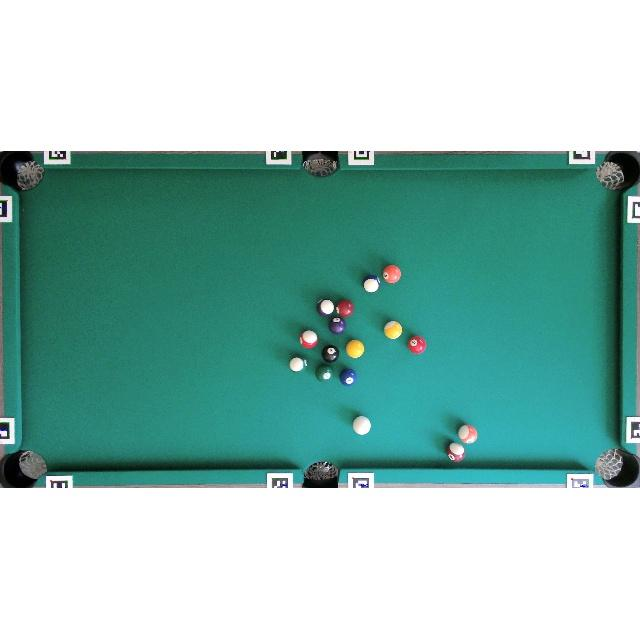cue ball: (352, 416, 371, 435)
other: (382, 264, 402, 284), (458, 424, 478, 444), (446, 442, 465, 462), (289, 355, 308, 374), (408, 335, 427, 354), (328, 316, 346, 335), (346, 340, 365, 358), (339, 368, 358, 386), (316, 299, 335, 317), (300, 329, 318, 348), (315, 364, 333, 382), (336, 300, 354, 318), (384, 321, 402, 339), (322, 345, 339, 363), (364, 275, 381, 292)
